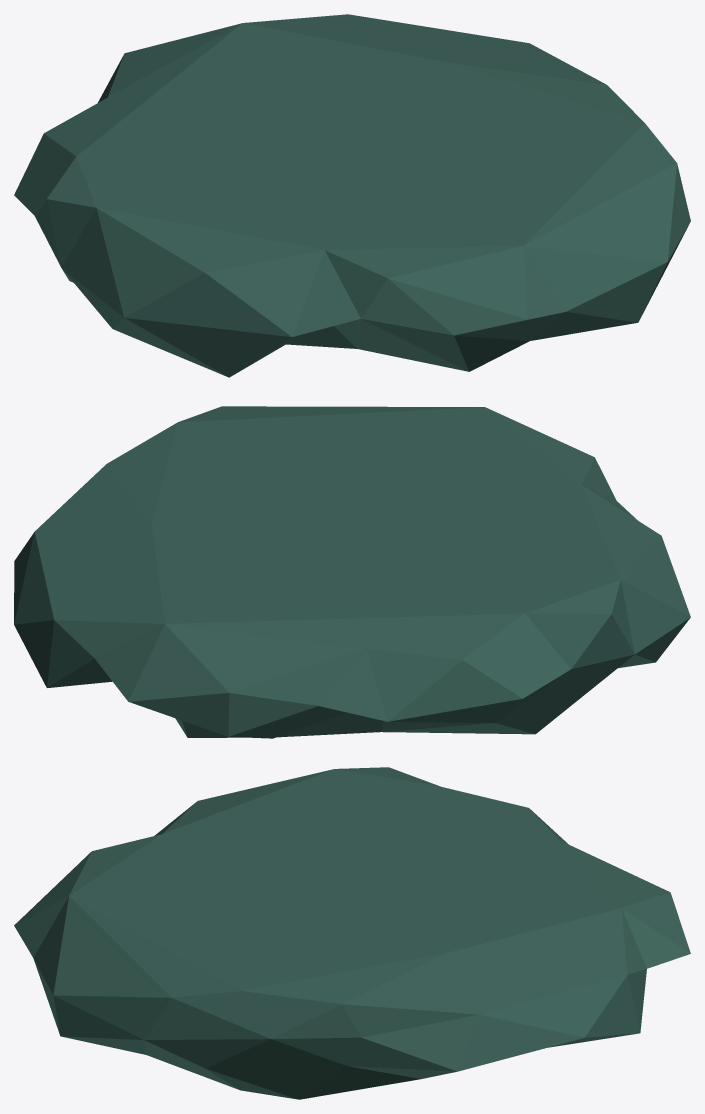
The model's file is Stone_25.fbx.
3 views of the same model, one above another, from view 1: azimuth 30°, elevation 25°; view 2: azimuth 150°, elevation 25°; view 3: azimuth 270°, elevation 25° (orthographic). The views are drawn at different scales.
Parts seen in each view (by area): view 1: Stone 25; view 2: Stone 25; view 3: Stone 25.
Part boxes in pixels (<box>): Stone 25: <box>14,14,690,377</box>; Stone 25: <box>14,406,690,738</box>; Stone 25: <box>14,767,690,1099</box>.
Bounding box in the file's own units: 7089 × 1567 × 7976.
